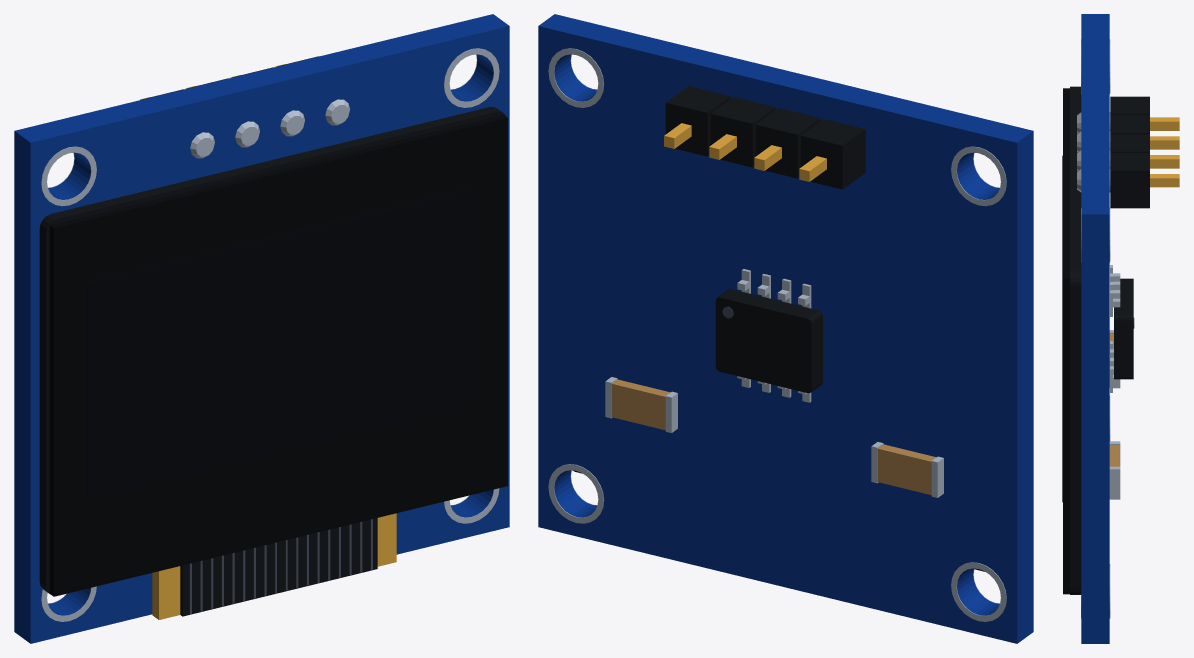
File: oled_096_i2c.obj
3 views of the same model, side by side, from view 1: azimuth 30°, elevation 25°; view 2: azimuth 150°, elevation 25°; view 3: azimuth 270°, elevation 25° (orthographic). The views are drawn at different scales.
Parts seen in each view (by area): view 1: oled_096_i2c; view 2: oled_096_i2c; view 3: oled_096_i2c.
Boxes of the visible parts, x1=… form: oled_096_i2c: x1=14, y1=14, x2=509, y2=643; oled_096_i2c: x1=538, y1=14, x2=1033, y2=643; oled_096_i2c: x1=1062, y1=14, x2=1179, y2=643.
Size of the model in its own units: 2 by 2 by 0.4963.
